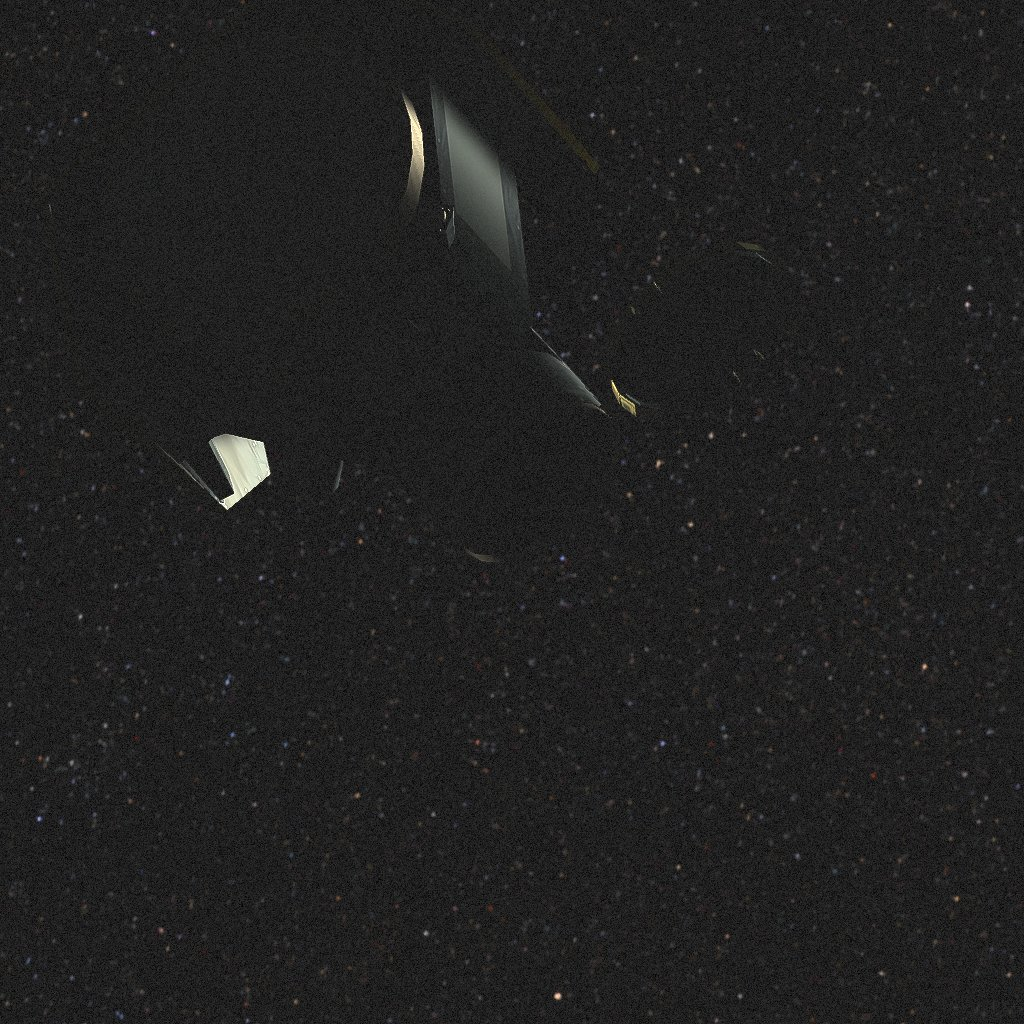cheops: (32, 0, 794, 567)
